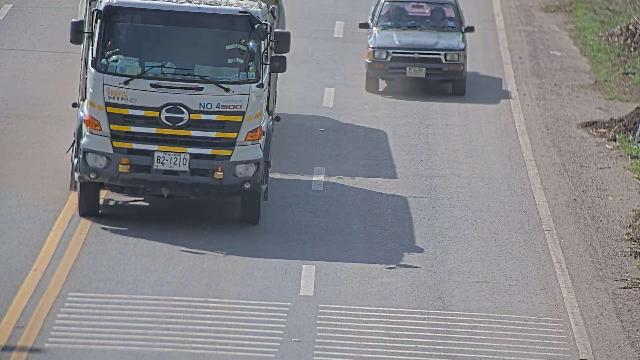pickup-truck: (358, 0, 475, 96)
truck: (66, 0, 296, 230)
